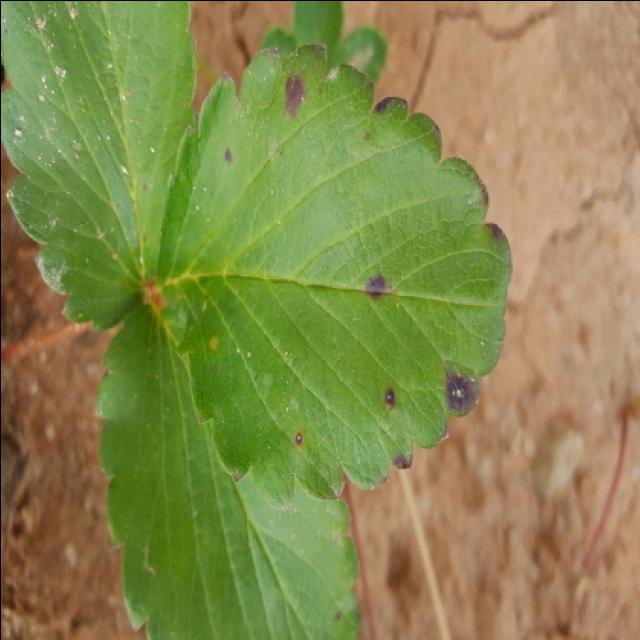Leaf Spot: (147, 41, 510, 508), (0, 2, 199, 331)
